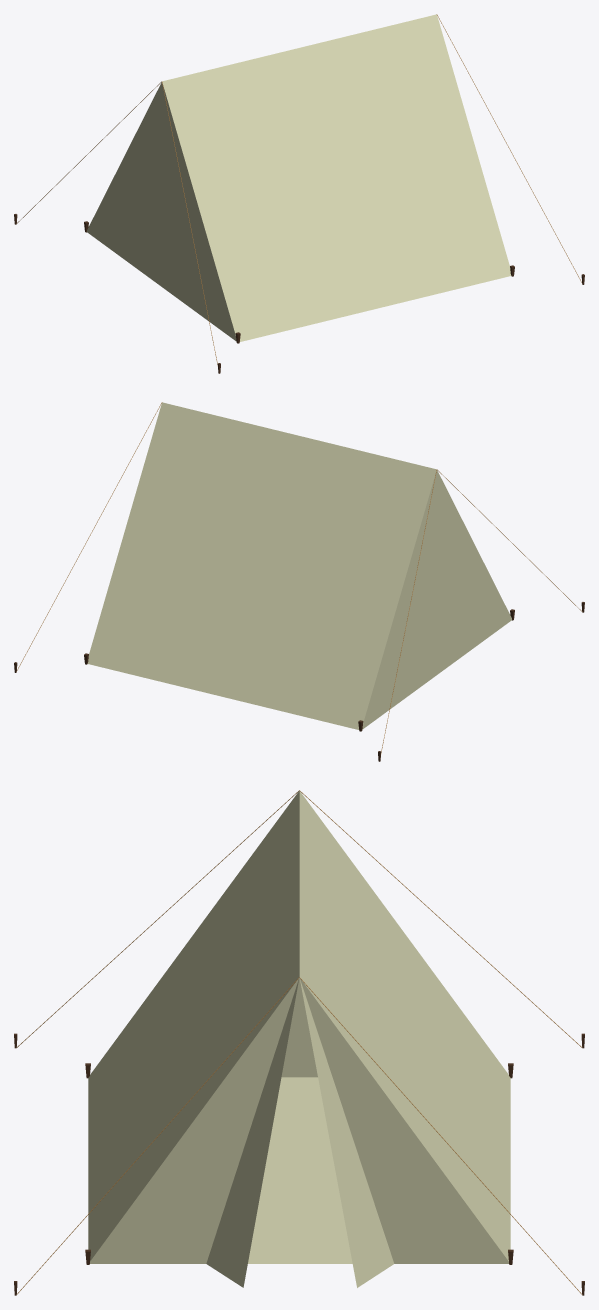
The model's file is Zelt.fbx.
The picture shows the model from 3 angles, top to bottom: view 1: azimuth 30°, elevation 25°; view 2: azimuth 150°, elevation 25°; view 3: azimuth 270°, elevation 25°; orthographic projection. The views are drawn at different scales.
Visible parts, largest first — view 1: Zelt, Seil; view 2: Zelt, Seil; view 3: Zelt, Seil.
Part boxes in pixels (<box>): Zelt: <box>87,14,511,341</box>; Seil: <box>16,14,582,365</box>; Zelt: <box>87,402,511,729</box>; Seil: <box>16,402,582,753</box>; Zelt: <box>88,790,510,1287</box>; Seil: <box>16,790,582,1294</box>.
Size of the model in its own units: 199 by 108 by 193.
